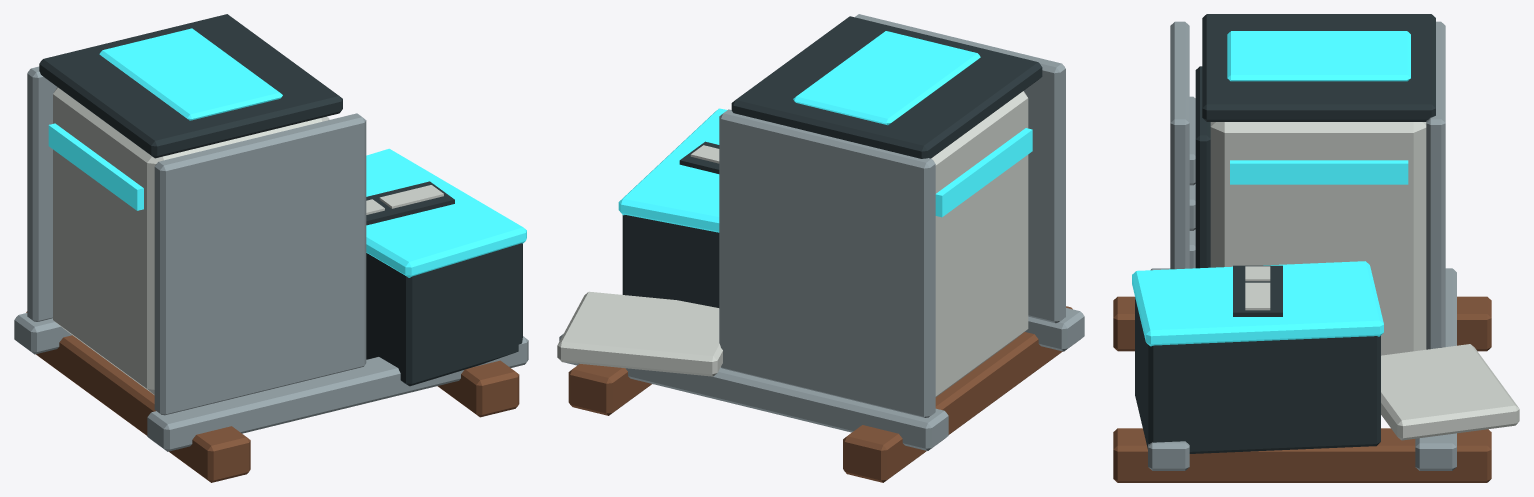
Rendered from electronics_0.glb.
3 renders of one model, left to right at view 1: azimuth 30°, elevation 25°; view 2: azimuth 150°, elevation 25°; view 3: azimuth 270°, elevation 25°, orthographic. The views are drawn at different scales.
Visible parts, largest first — view 1: electronics_0; view 2: electronics_0; view 3: electronics_0.
Part boxes in pixels (left/top/right/bottom): electronics_0: left=14, top=14, right=528, bottom=482; electronics_0: left=557, top=14, right=1084, bottom=482; electronics_0: left=1113, top=14, right=1519, bottom=482.
Bounding box in the file's own units: 0.7601 × 0.6345 × 0.7303.
